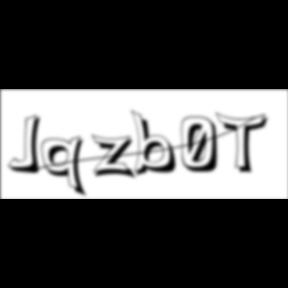0: (182, 115, 226, 174)
J: (9, 114, 48, 176)
T: (216, 112, 274, 176)
b: (130, 109, 183, 179)
q: (42, 135, 90, 200)
z: (92, 134, 140, 182)
